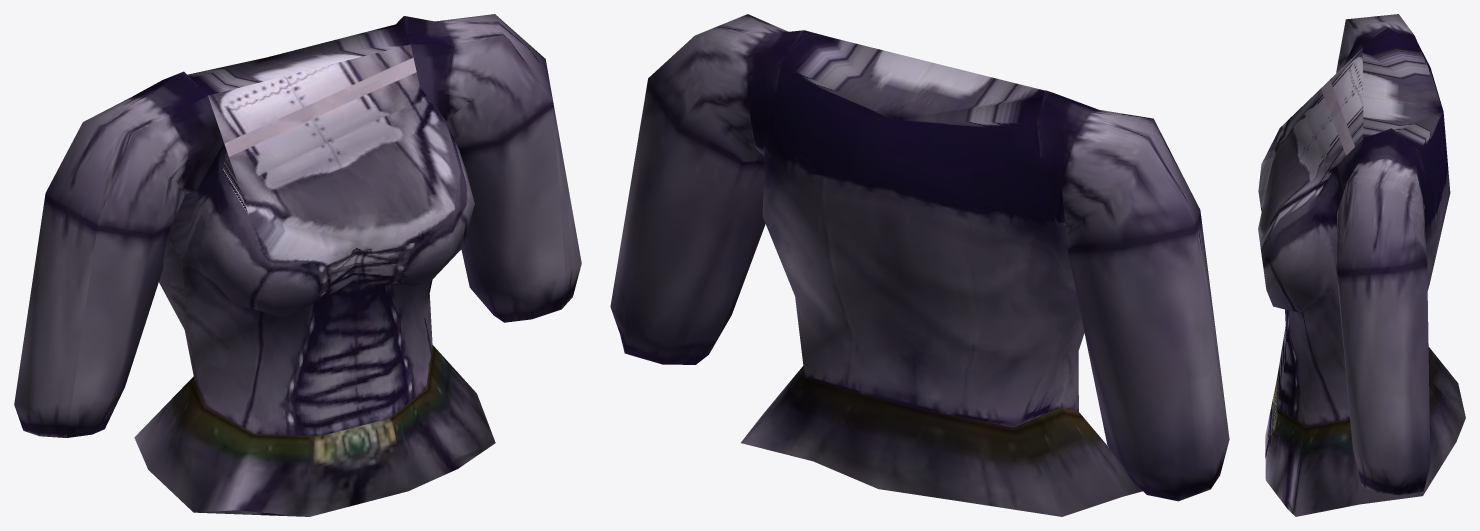
File: STATIC_GS_ARMOR_BAUBABE_M3.glb
3 renders of one model, left to right at view 1: azimuth 30°, elevation 25°; view 2: azimuth 150°, elevation 25°; view 3: azimuth 270°, elevation 25°, orthographic. The views are drawn at different scales.
Visible parts, largest first — view 1: Mesh; view 2: Mesh; view 3: Mesh.
Boxes of the visible parts, bbox=[...] form: Mesh: bbox=[14, 14, 581, 516]; Mesh: bbox=[610, 14, 1229, 516]; Mesh: bbox=[1258, 14, 1465, 516].
Size of the model in its own units: 0.6404 by 0.4551 by 0.2245.
Materials: 1 (1 with a texture image).
